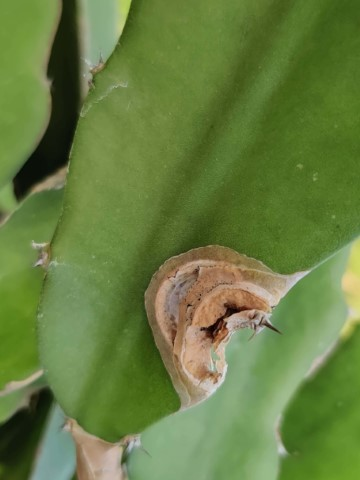stemcanker: (143, 242, 316, 411)
